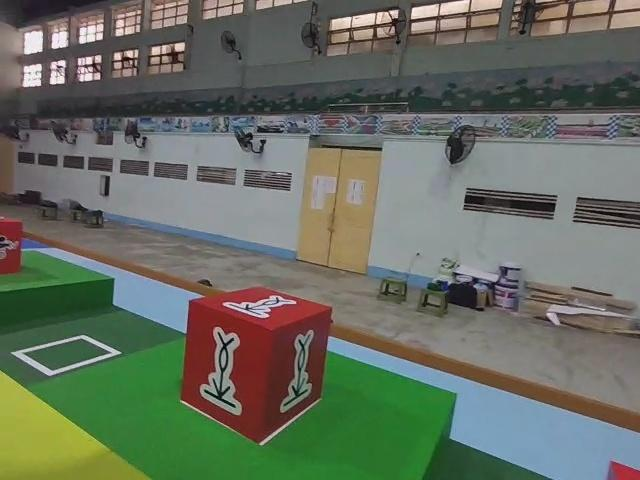R2 Real: (178, 285, 334, 443)
